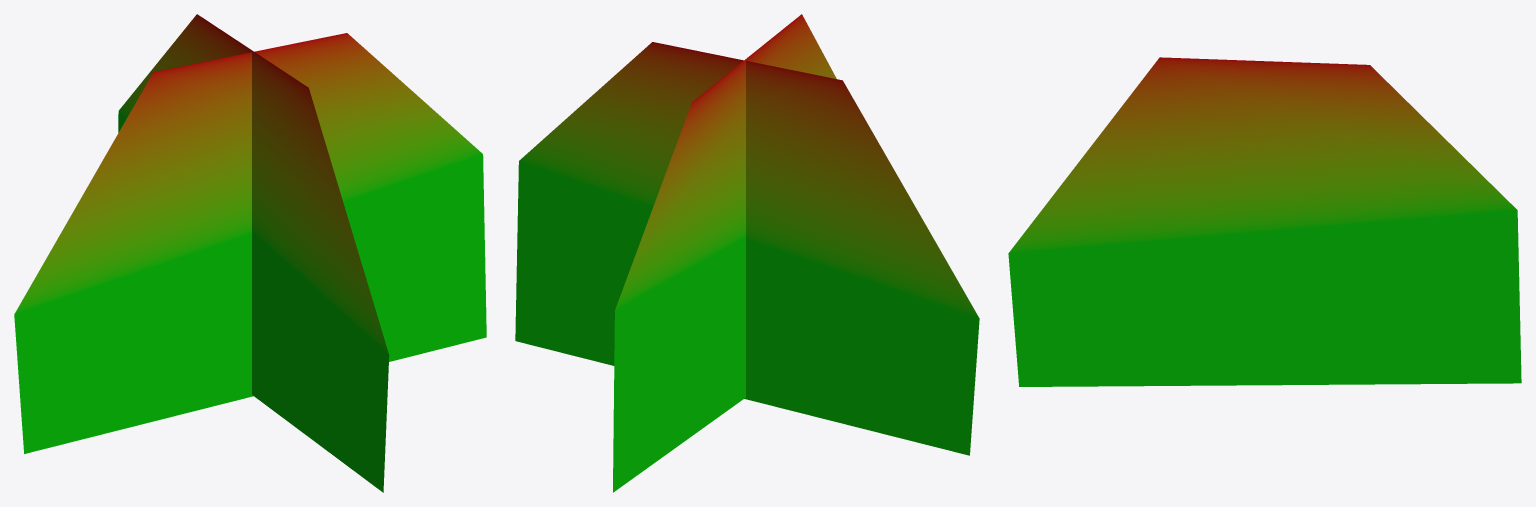
Rendered from Var1_LOD5.fbx.
3 views of the same model, side by side, from view 1: azimuth 30°, elevation 25°; view 2: azimuth 150°, elevation 25°; view 3: azimuth 270°, elevation 25° (orthographic). The views are drawn at different scales.
Visible parts, largest first — view 1: _b4rb_Var1_LOD5; view 2: _b4rb_Var1_LOD5; view 3: _b4rb_Var1_LOD5.
Part boxes in pixels (x1,y1,x2,y2): _b4rb_Var1_LOD5: [14, 14, 486, 492]; _b4rb_Var1_LOD5: [515, 14, 979, 492]; _b4rb_Var1_LOD5: [1008, 57, 1521, 386].
Bounding box in the file's own units: 108 × 76.75 × 108.
